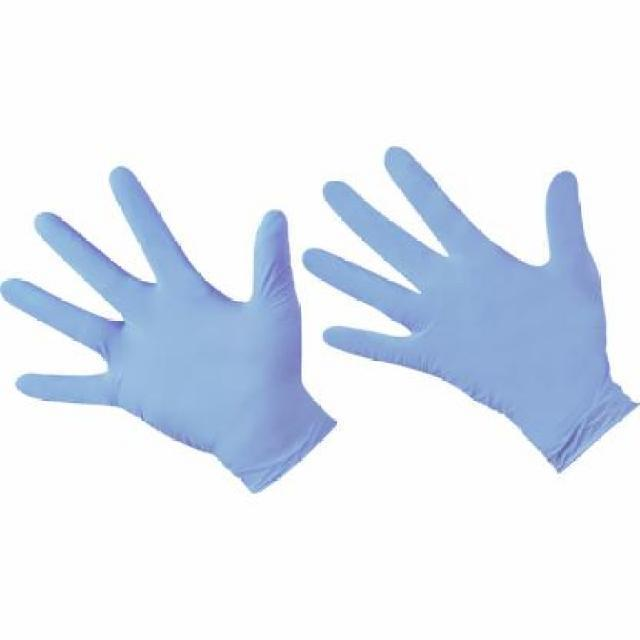gloved_hand: (0, 147, 338, 512), (301, 140, 639, 477)
